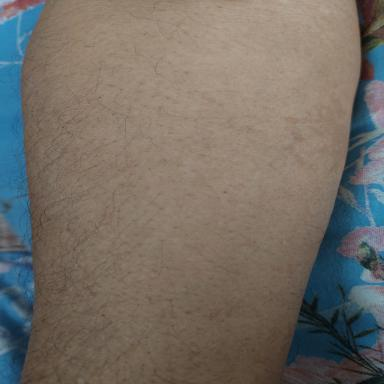normal skin: (20, 0, 360, 384)
